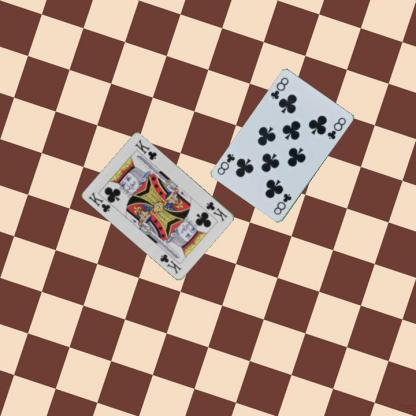8c: (268, 75, 290, 101), (271, 191, 293, 216)
Kc: (86, 189, 112, 214), (204, 199, 229, 223)
